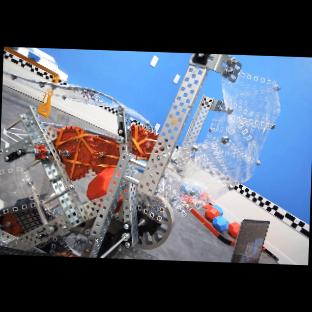Robot: (0, 47, 280, 260)
redinrobot: (86, 167, 116, 200), (115, 195, 122, 213)
